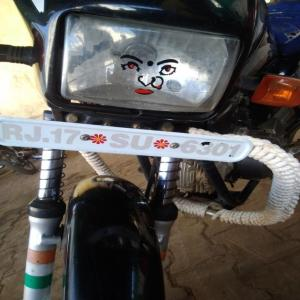Plate: (1, 117, 245, 161)
